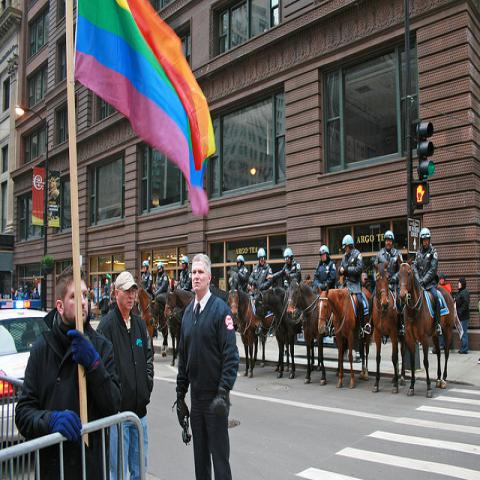car: (0, 310, 50, 448)
